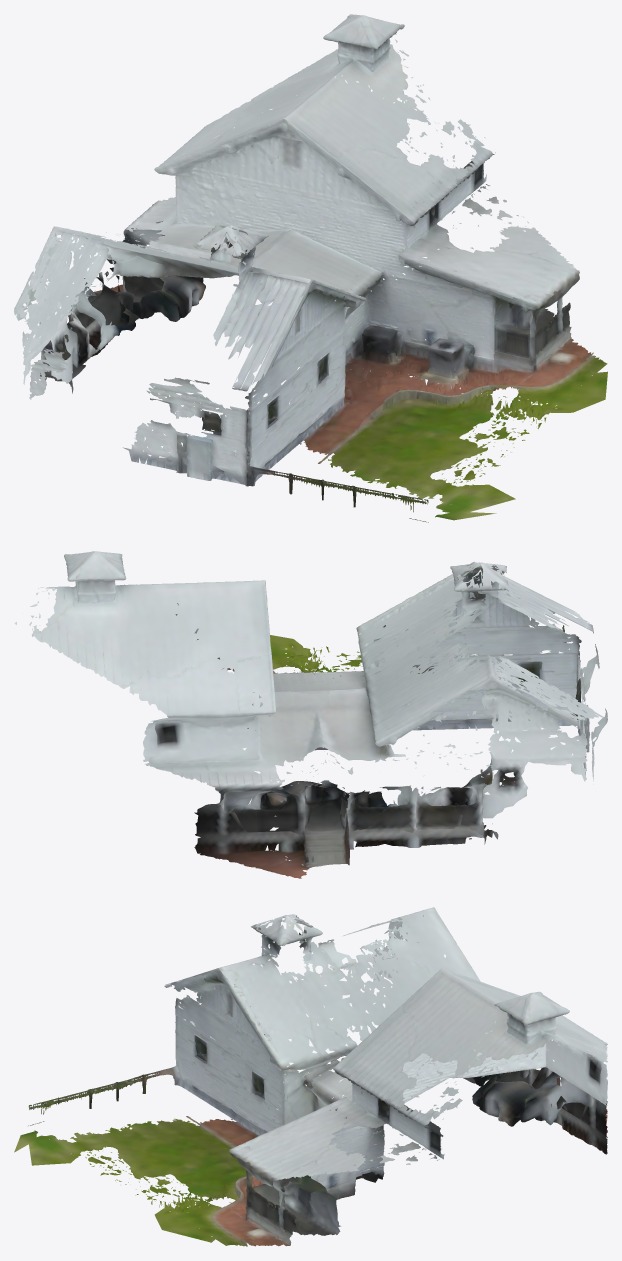
File: bldg_11_vet_colonial.glb
The picture shows the model from 3 angles, top to bottom: view 1: azimuth 30°, elevation 25°; view 2: azimuth 150°, elevation 25°; view 3: azimuth 270°, elevation 25°; orthographic projection. The views are drawn at different scales.
Visible parts, largest first — view 1: bldg_11_vet_colonial; view 2: bldg_11_vet_colonial; view 3: bldg_11_vet_colonial.
Boxes of the visible parts, bbox=[...] form: bldg_11_vet_colonial: bbox=[14, 14, 607, 522]; bldg_11_vet_colonial: bbox=[14, 551, 607, 878]; bldg_11_vet_colonial: bbox=[14, 907, 607, 1246].
Bounding box in the file's own units: 24.99 × 11.9 × 28.19.
1 material, 1 textured.
